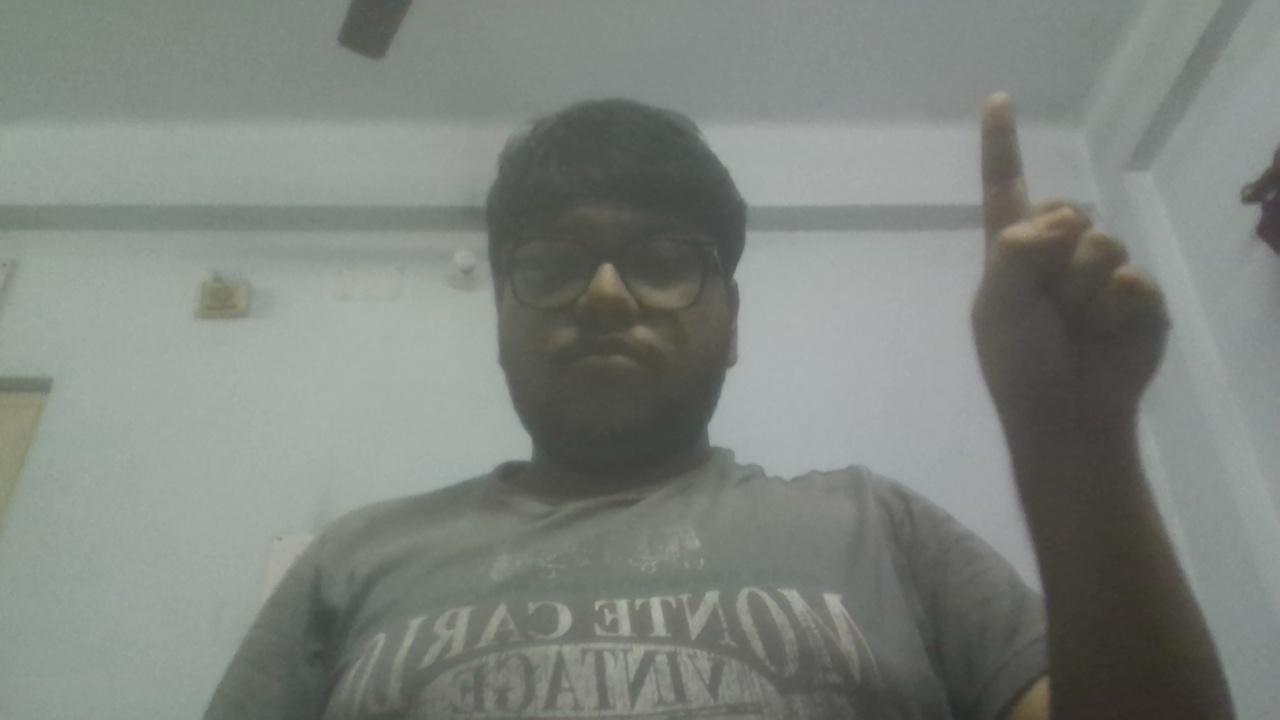Gesture1: (950, 83, 1189, 467)
